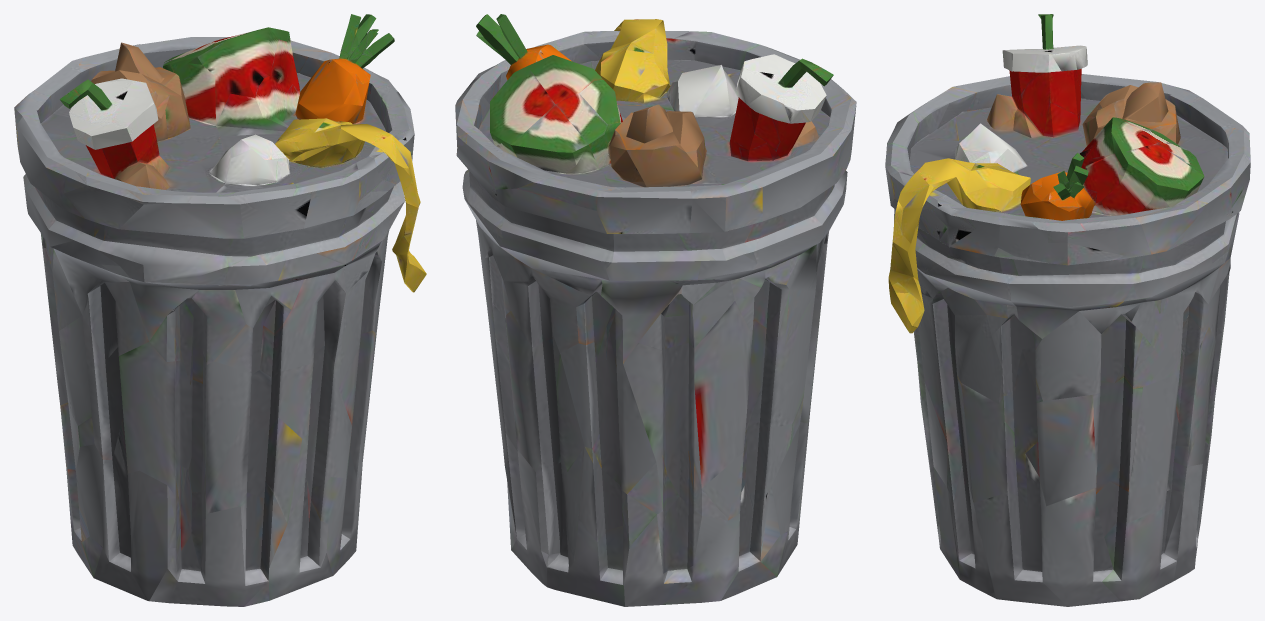
File: street-bin.glb
3 views of the same model, side by side, from view 1: azimuth 30°, elevation 25°; view 2: azimuth 150°, elevation 25°; view 3: azimuth 270°, elevation 25° (orthographic). The views are drawn at different scales.
Parts seen in each view (by area): view 1: output_unwrapped; view 2: output_unwrapped; view 3: output_unwrapped.
Boxes of the visible parts, x1,y1,x2,y2 form: output_unwrapped: [14, 14, 426, 606]; output_unwrapped: [455, 14, 856, 606]; output_unwrapped: [885, 14, 1250, 606].
Bounding box in the file's own units: 1.36 × 1.9 × 1.33.
1 material, 1 textured.
